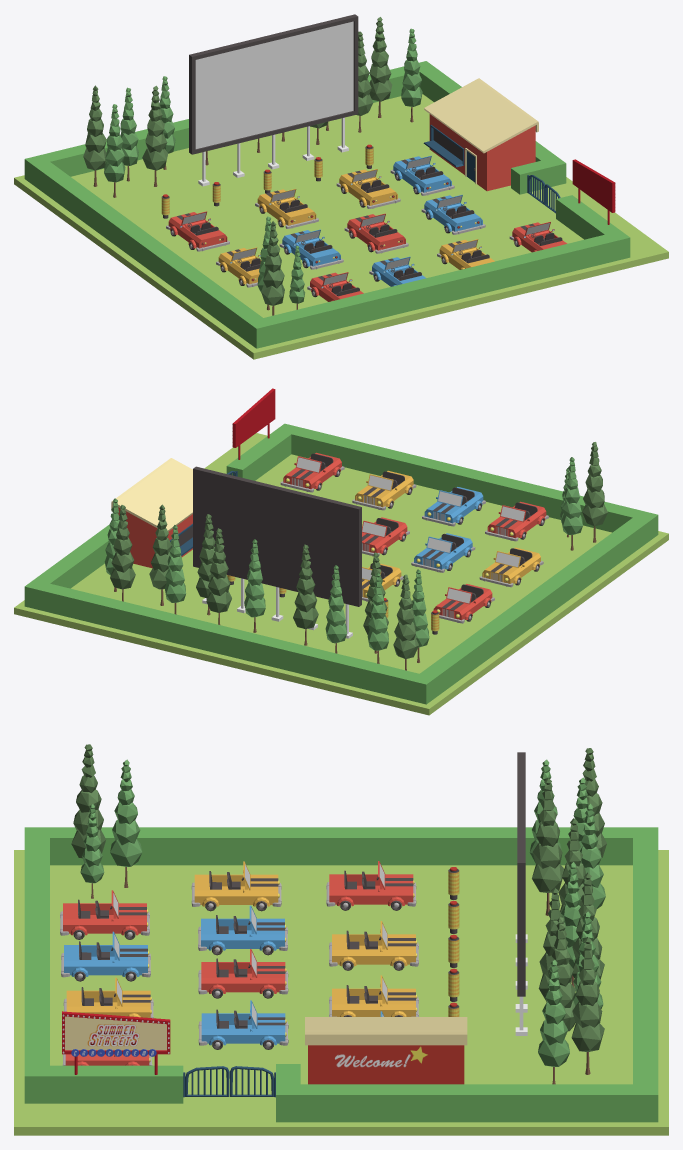
File: D4_AUTOCINEMA.fbx
3 views of the same model, one above another, from view 1: azimuth 30°, elevation 25°; view 2: azimuth 150°, elevation 25°; view 3: azimuth 270°, elevation 25° (orthographic). The views are drawn at different scales.
Visible parts, largest first — view 1: Cube.056, Cube.057, Cube.062, Cube.061, d3_car_red, d3_car_yellow, d3_car_blue.001, d3_car_blue, d3_car_yellow.001, d3_car_red.001, d3_car_blue.002, Cube.073 (+18 smaller); view 2: Cube.056, Cube.057, Cube.062, Cube.061, d3_car_red.002, d3_car_yellow.002, d3_car_red.003, d3_car_blue.003, d3_car_blue.002, d3_car_yellow.003, d3_car_red, Cube.072 (+18 smaller); view 3: Cube.056, Cube.057, Cube.061, Cube.058, d3_car_yellow.003, d3_car_blue.002, d3_car_yellow.001, d3_car_red.003, d3_car_blue.001, d3_car_red, d3_car_red.001, d3_car_blue.003 (+22 smaller).
Boxes of the visible parts, bbox=[...] form: Cube.056: bbox=[14, 94, 668, 359]; Cube.057: bbox=[24, 61, 630, 348]; Cube.062: bbox=[189, 14, 358, 154]; Cube.061: bbox=[423, 78, 538, 191]; d3_car_red: bbox=[166, 211, 229, 251]; d3_car_yellow: bbox=[336, 169, 400, 208]; d3_car_blue.001: bbox=[421, 194, 485, 234]; d3_car_blue: bbox=[390, 155, 454, 195]; d3_car_yellow.001: bbox=[255, 188, 318, 228]; d3_car_red.001: bbox=[344, 213, 408, 253]; d3_car_blue.002: bbox=[279, 229, 343, 269]; Cube.073: bbox=[142, 85, 168, 186]; Cube.056: bbox=[14, 433, 668, 715]; Cube.057: bbox=[24, 423, 658, 704]; Cube.062: bbox=[193, 466, 361, 606]; Cube.061: bbox=[111, 458, 192, 568]; d3_car_red.002: bbox=[280, 452, 344, 492]; d3_car_yellow.002: bbox=[352, 470, 416, 510]; d3_car_red.003: bbox=[485, 501, 548, 541]; d3_car_blue.003: bbox=[422, 487, 485, 526]; d3_car_blue.002: bbox=[411, 533, 475, 572]; d3_car_yellow.003: bbox=[479, 547, 543, 587]; d3_car_red: bbox=[433, 584, 494, 623]; Cube.072: bbox=[293, 544, 318, 645]; Cube.056: bbox=[14, 850, 668, 1135]; Cube.057: bbox=[24, 827, 658, 1122]; Cube.061: bbox=[305, 1017, 467, 1084]; Cube.058: bbox=[62, 1011, 170, 1054]; d3_car_yellow.003: bbox=[191, 861, 281, 911]; d3_car_blue.002: bbox=[198, 905, 287, 955]; d3_car_yellow.001: bbox=[329, 921, 418, 970]; d3_car_red.003: bbox=[60, 890, 149, 939]; d3_car_blue.001: bbox=[198, 1000, 288, 1049]; d3_car_red: bbox=[326, 861, 416, 910]; d3_car_red.001: bbox=[198, 949, 288, 998]; d3_car_blue.003: bbox=[61, 931, 150, 981].
Bounding box in the file's own units: 4000 × 1269 × 4000.
Materials: 12 (4 with a texture image).
